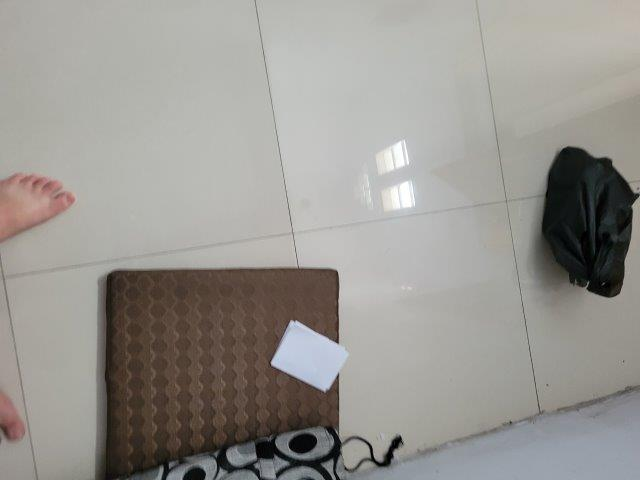kertas: (270, 323, 351, 392)
plastik: (547, 145, 637, 302)
